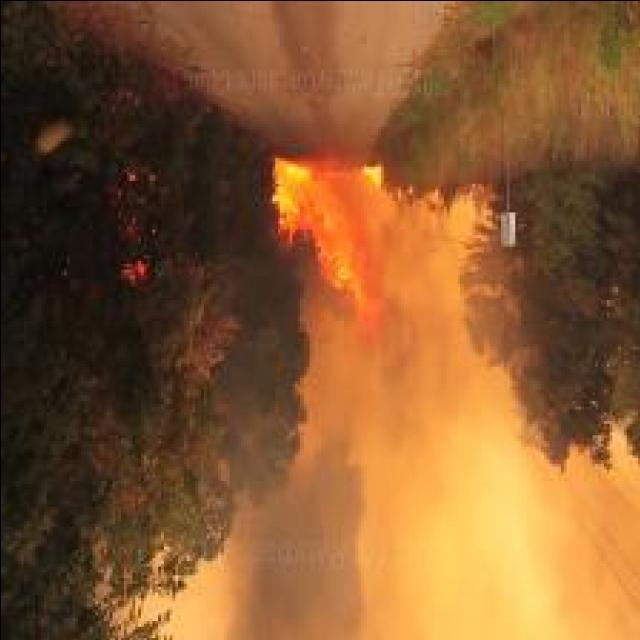Fire: (272, 154, 388, 337)
